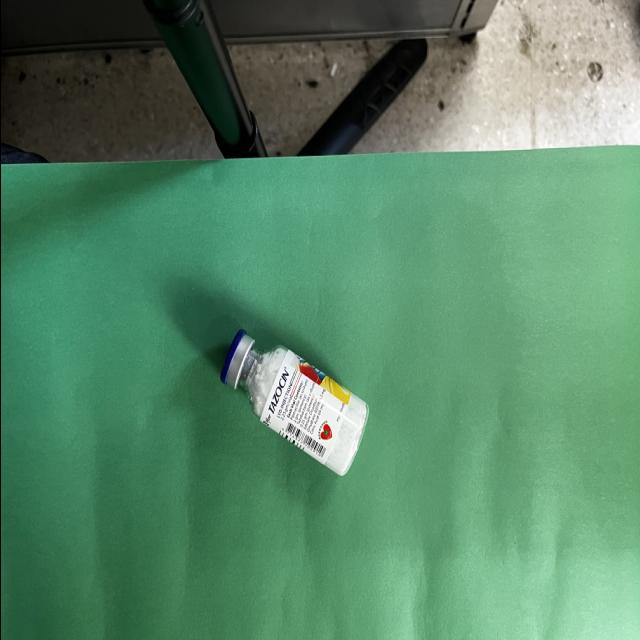Vials: (220, 329, 367, 475)
